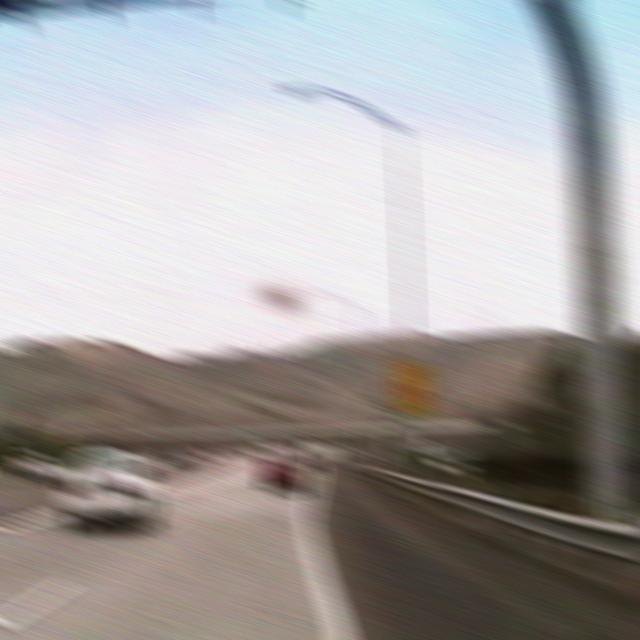speedLimit50: (390, 357, 433, 416)
